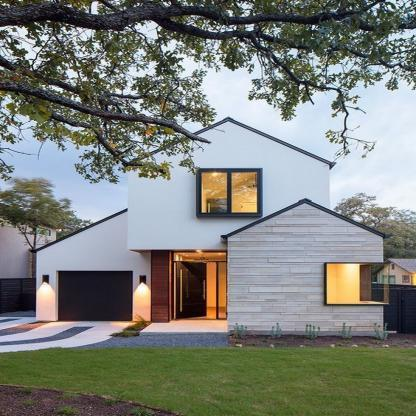Building Outline: (28, 116, 393, 337)
Door: (58, 272, 132, 321), (173, 263, 216, 319)
Facade: (28, 116, 393, 338)
Floor Slab: (128, 242, 330, 249)
Roof: (121, 116, 337, 171), (221, 197, 392, 243), (29, 208, 128, 254)
Window: (328, 263, 389, 304), (202, 172, 258, 213), (218, 263, 226, 319), (174, 253, 227, 261)
